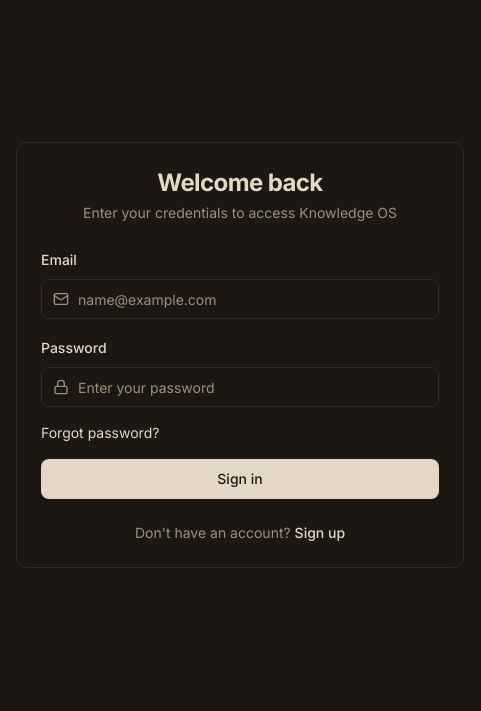
it: LoginPage › Login Mode › switches to register mode
Step 1. Click the button "Sign up" → click(320, 533), box [295, 523, 345, 543]
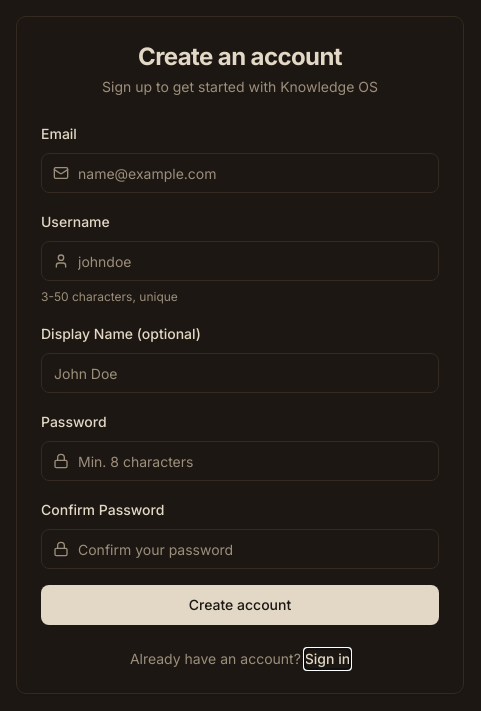
Expected: the heading "Create an account" is shown, [138, 42, 342, 71]
